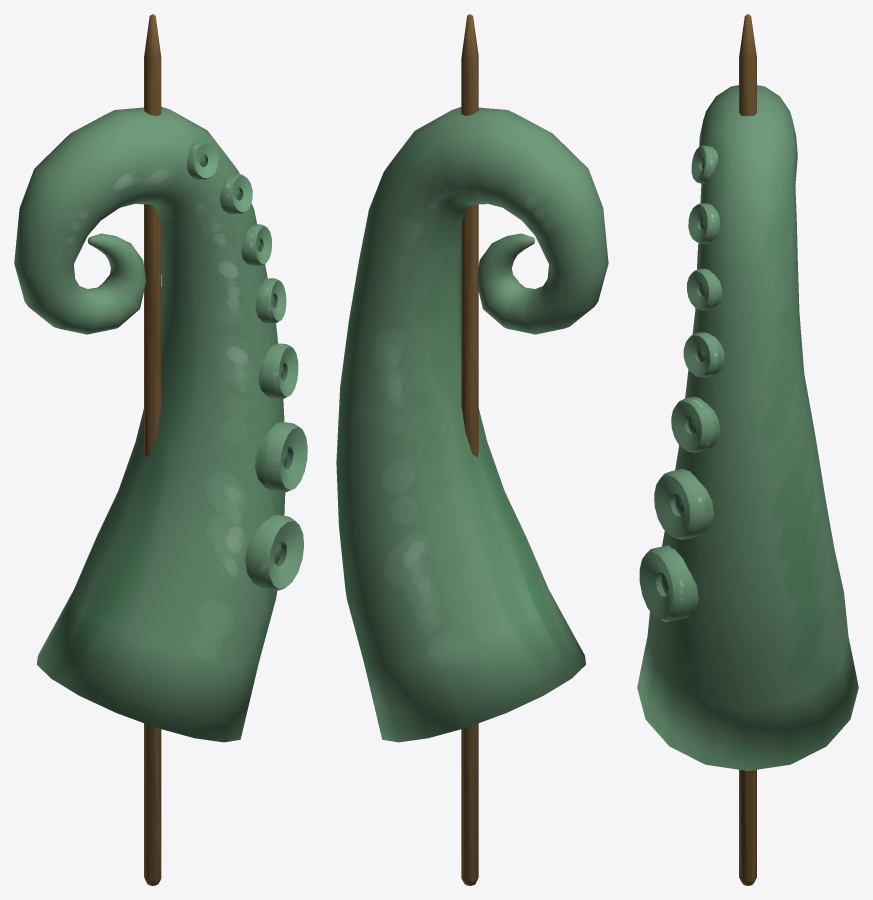
The model's file is Tentacle.fbx.
3 renders of one model, left to right at view 1: azimuth 30°, elevation 25°; view 2: azimuth 150°, elevation 25°; view 3: azimuth 270°, elevation 25°, orthographic.
Visible parts, largest first — view 1: tentacle; view 2: tentacle; view 3: tentacle.
Part boxes in pixels (x1,y1,x2,y2): tentacle: (14, 14, 307, 885); tentacle: (336, 14, 608, 885); tentacle: (637, 14, 858, 885).
Size of the model in its own units: 0.094 by 0.3001 by 0.0692.
Materials: 1 (1 with a texture image).
